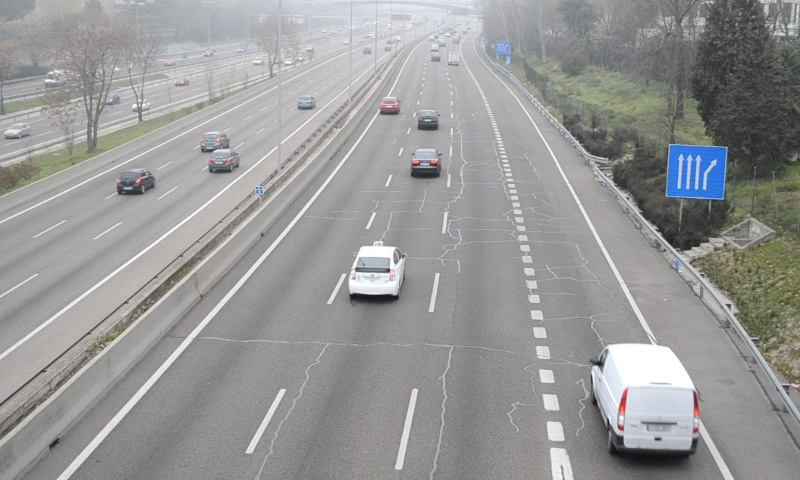car: (348, 245, 404, 297), (411, 147, 439, 176), (416, 108, 439, 130), (378, 96, 400, 114)
van: (592, 344, 698, 459)
